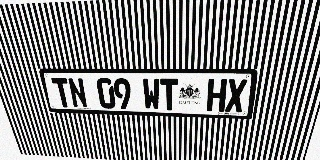0: (96, 78, 116, 109)
9: (113, 78, 132, 109)
H: (206, 79, 227, 112)
N: (67, 78, 88, 108)
T: (51, 78, 73, 108), (160, 78, 178, 110)
W: (142, 78, 161, 110)
X: (225, 79, 247, 112)
